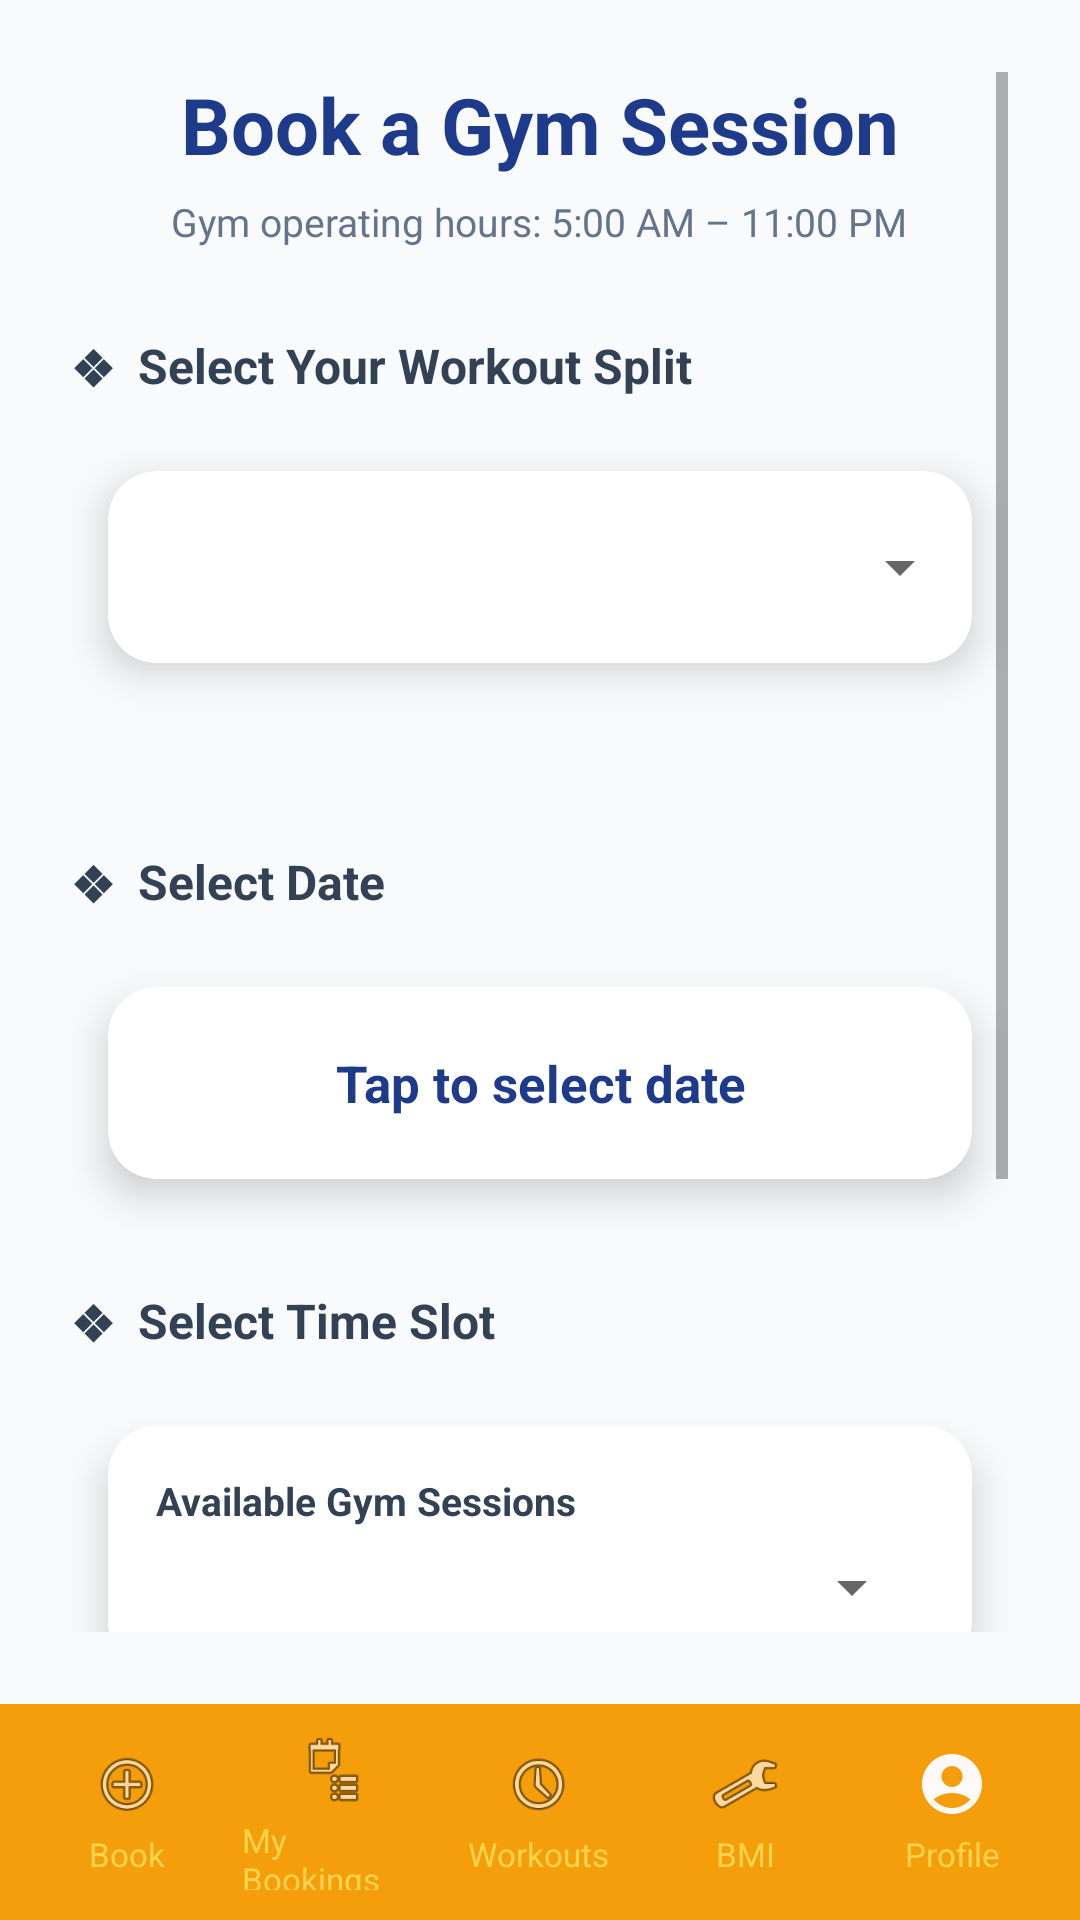

Named icons in this screenshot (1080×1920) and their bounding boxes, (x1, y1, x2, y2):
account circle: (922, 1754, 982, 1814)
add: (100, 1758, 154, 1811)
agenda: (308, 1738, 359, 1802)
manage: (712, 1759, 777, 1809)
recent history: (512, 1758, 565, 1810)
